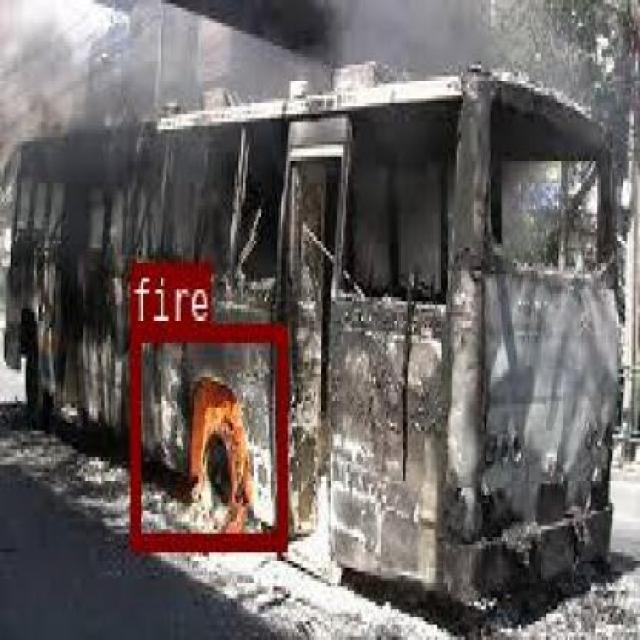Fire: (129, 323, 285, 546)
